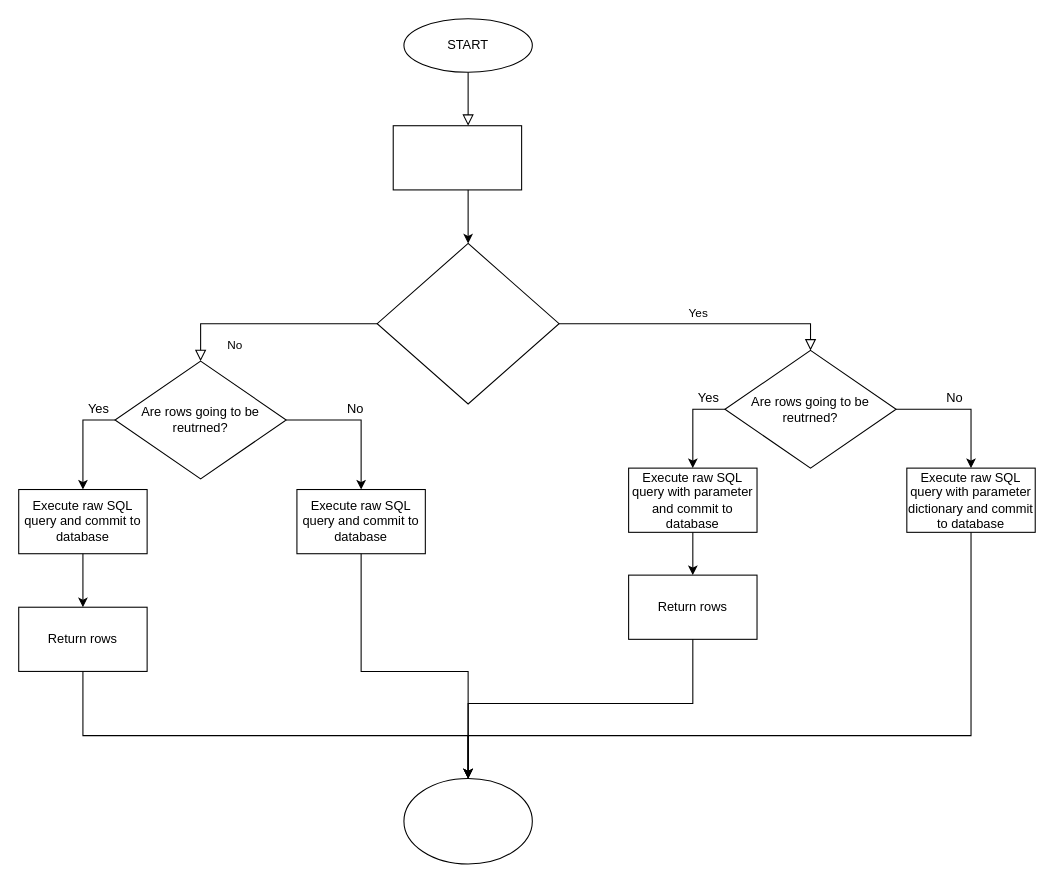
Some shapes in this 1054 by 883 pixel diagram are drawn without their labels. Here are the shapes that lost their labels. From the top down, the centre of each, then its label:
pixel 457 157: Create SQLAlchemy Engine with connection string
pixel 467 323: Is there a parameter dictionary?
pixel 467 820: END
